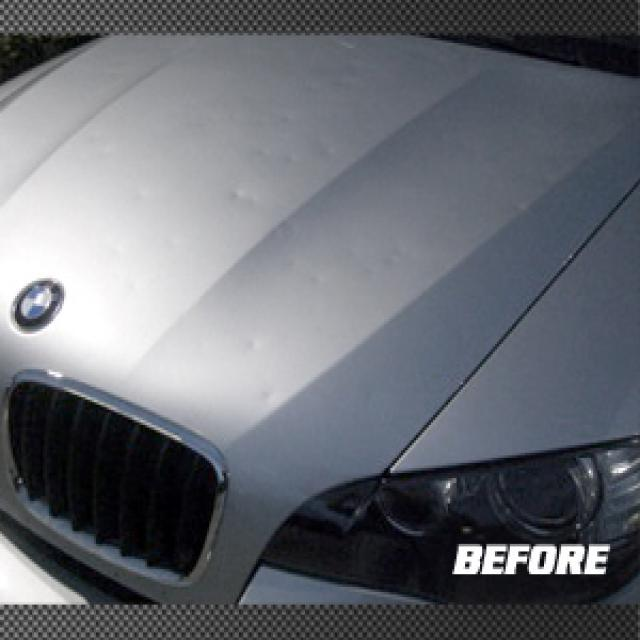bonnet-dent: (2, 167, 480, 532), (0, 40, 455, 418), (373, 53, 638, 536)
